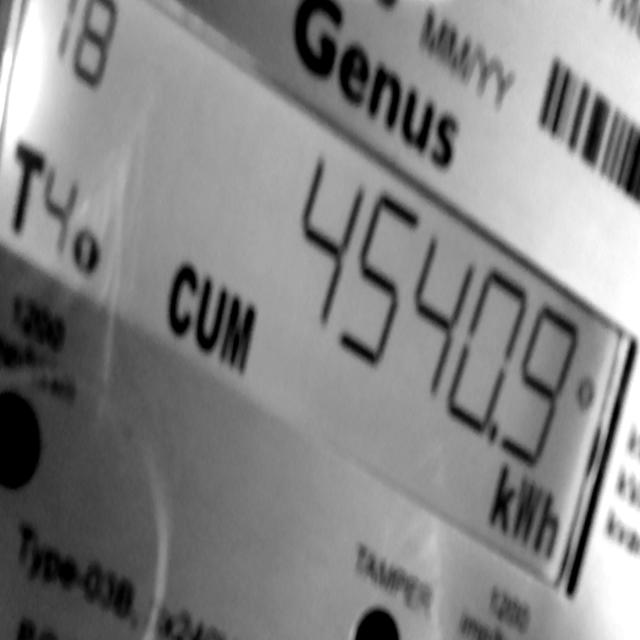display: (0, 0, 639, 599)
frame: (295, 133, 584, 494), (49, 0, 125, 91), (38, 152, 81, 272)
